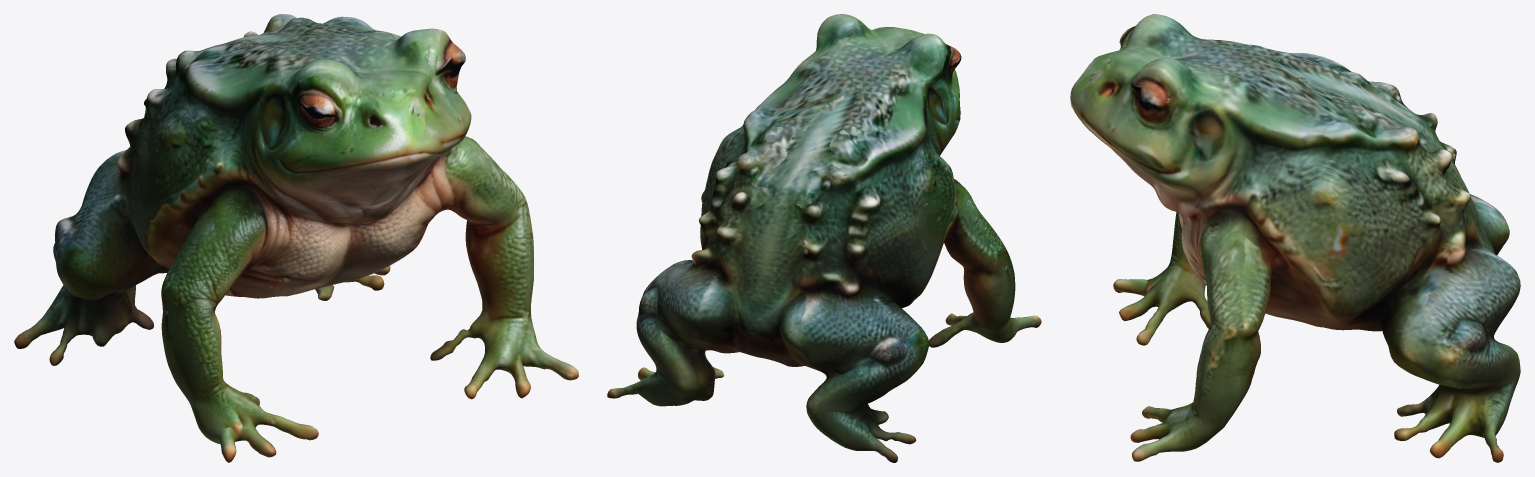
File: monster.glb
3 views of the same model, side by side, from view 1: azimuth 30°, elevation 25°; view 2: azimuth 150°, elevation 25°; view 3: azimuth 270°, elevation 25° (orthographic). The views are drawn at different scales.
Parts seen in each view (by area): view 1: Monster; view 2: Monster; view 3: Monster.
Part boxes in pixels (x1,y1,x2,y2): Monster: (14, 14, 578, 462); Monster: (607, 14, 1041, 462); Monster: (1070, 14, 1520, 462).
Size of the model in its own units: 1.2 by 1.17 by 1.35.
1 material, 1 textured.
